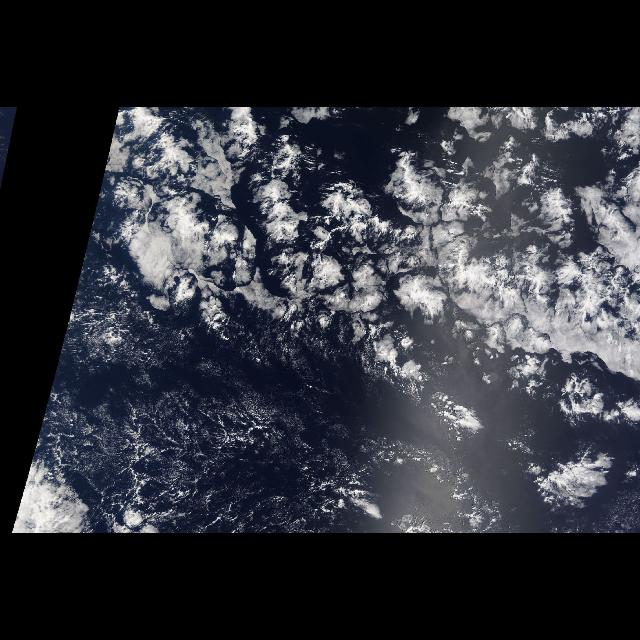Flower: (61, 111, 639, 345)
Sugar: (87, 350, 340, 532)
